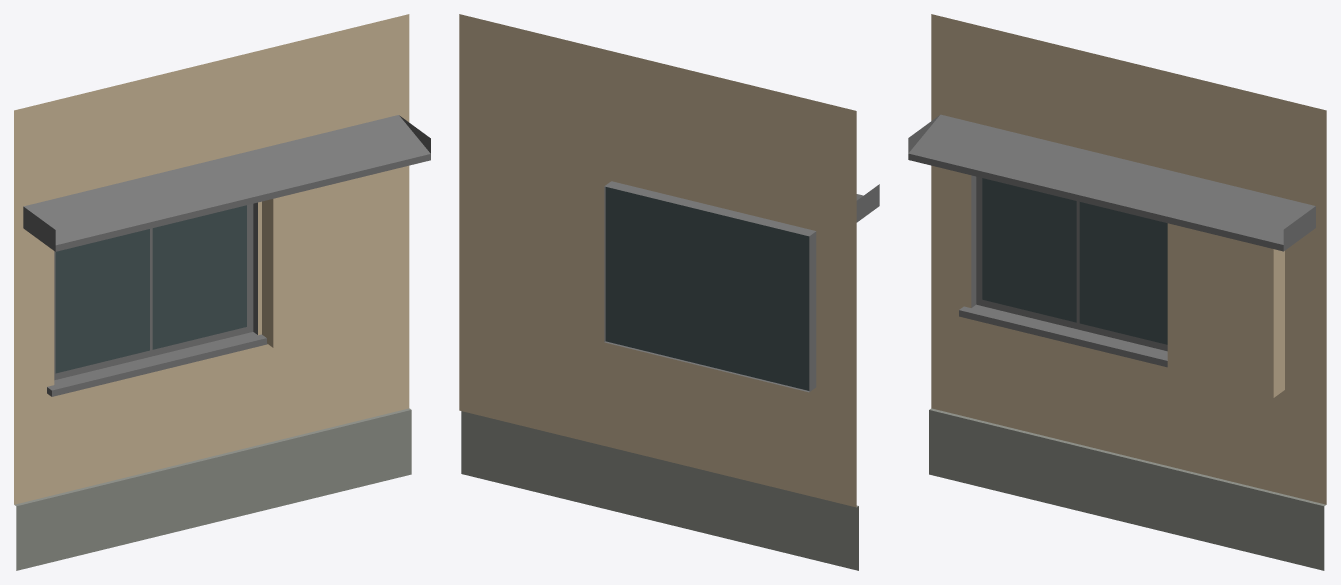
3 views of the same model, side by side, from view 1: azimuth 30°, elevation 25°; view 2: azimuth 150°, elevation 25°; view 3: azimuth 330°, elevation 25° (orthographic).
Parts seen in each view (by area): view 1: a2000/400/base-w1; view 2: a2000/400/base-w1; view 3: a2000/400/base-w1.
Boxes of the visible parts, box(x1,y1,x2,y2) form: a2000/400/base-w1: box(14, 14, 430, 570); a2000/400/base-w1: box(459, 14, 879, 570); a2000/400/base-w1: box(908, 14, 1326, 570).
Size of the model in its own units: 3.2 by 3.55 by 0.55.
